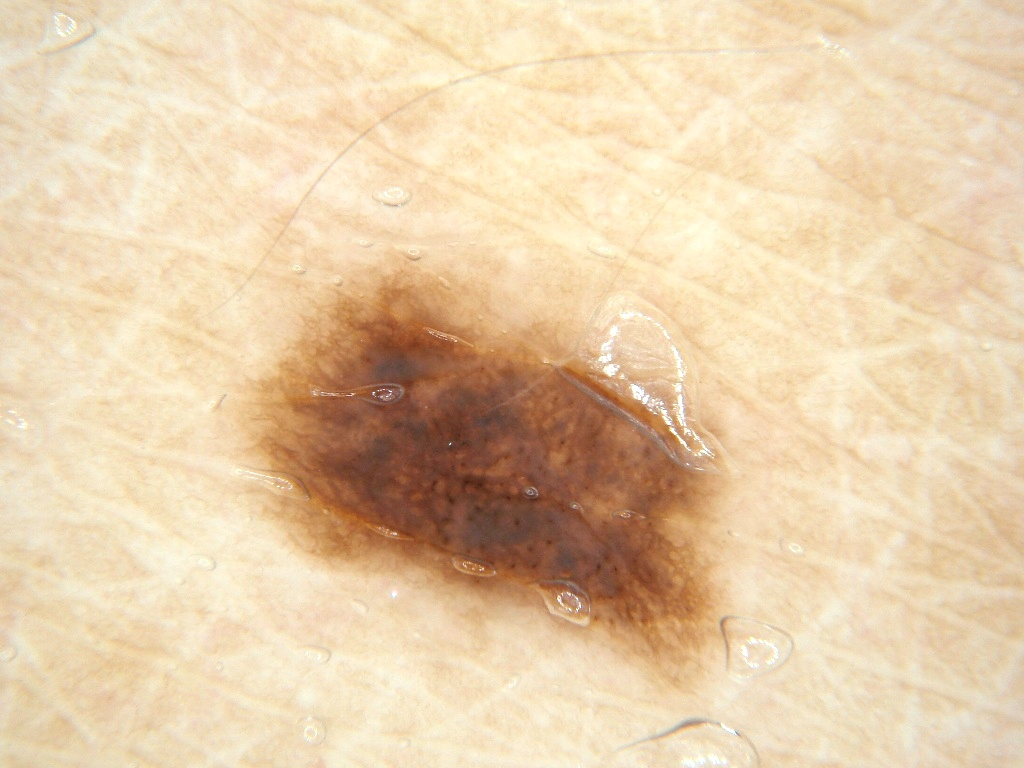Detected Lesion: (232, 277, 748, 689)
